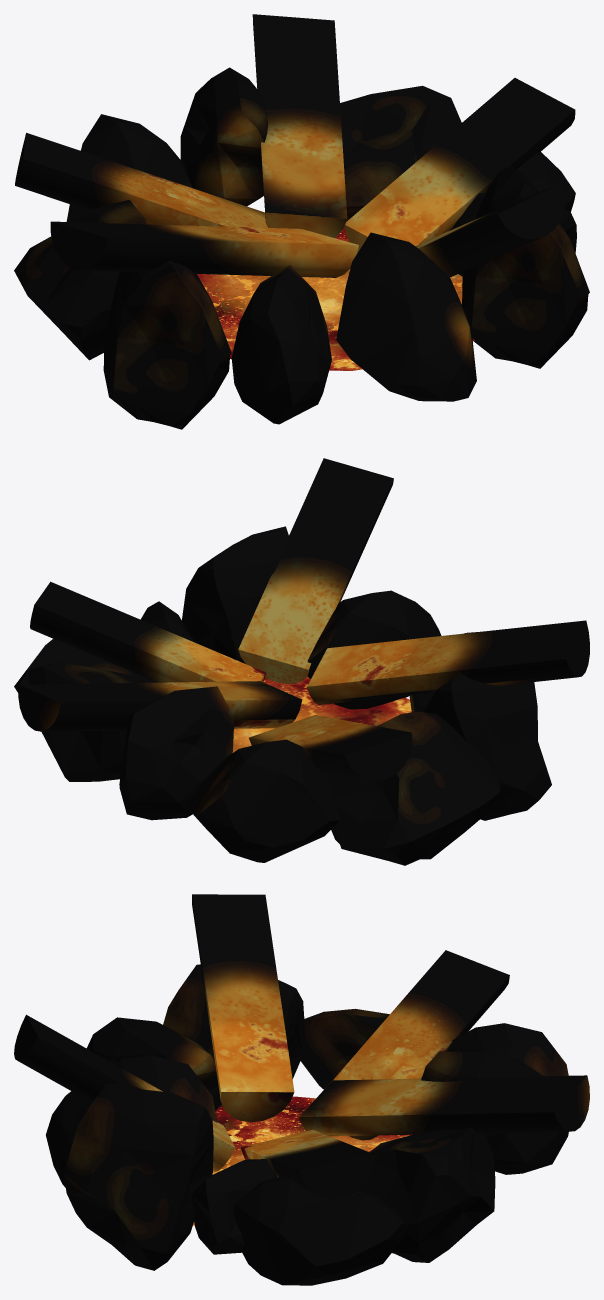
File: campfire.obj
3 renders of one model, top to bottom at view 1: azimuth 30°, elevation 25°; view 2: azimuth 150°, elevation 25°; view 3: azimuth 270°, elevation 25°, orthographic. The views are drawn at different scales.
Parts seen in each view (by area): view 1: Null_2_Mesh; view 2: Null_2_Mesh; view 3: Null_2_Mesh.
Part boxes in pixels (<box>): Null_2_Mesh: <box>14,14,589,429</box>; Null_2_Mesh: <box>14,458,589,865</box>; Null_2_Mesh: <box>14,894,589,1285</box>.
Bounding box in the file's own units: 2.12 × 0.9304 × 2.08.
Materials: 1 (1 with a texture image).
